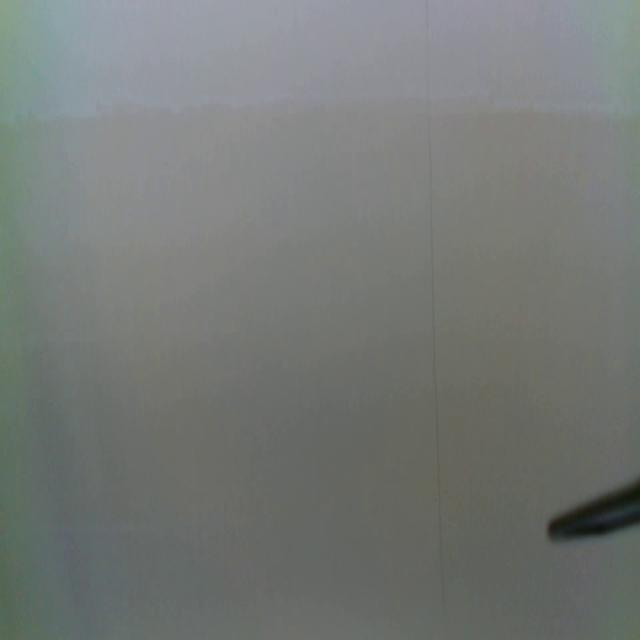color bleeding: (3, 0, 640, 133)
crease: (424, 0, 444, 607)
